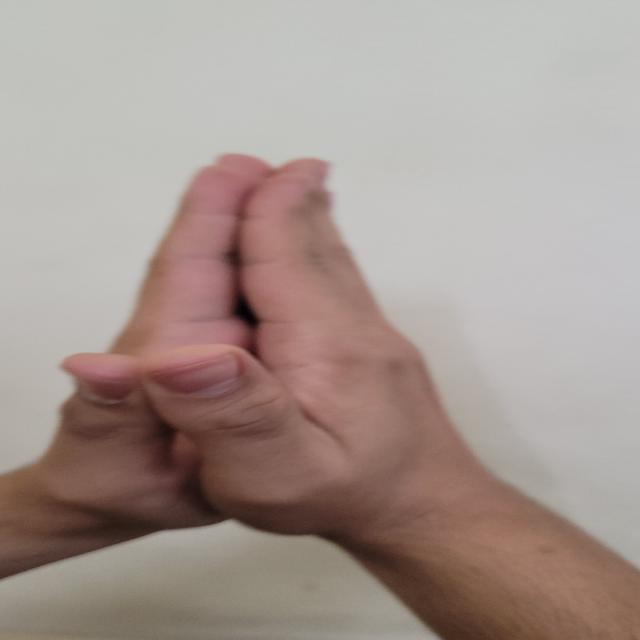Thank You: (31, 137, 552, 594)
